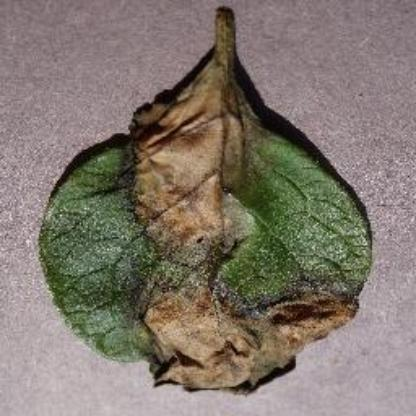Late-Blight: (36, 10, 374, 392)
